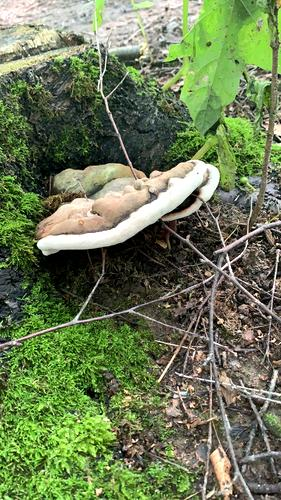Ganoderma - Fruit Body: (27, 158, 217, 254)
